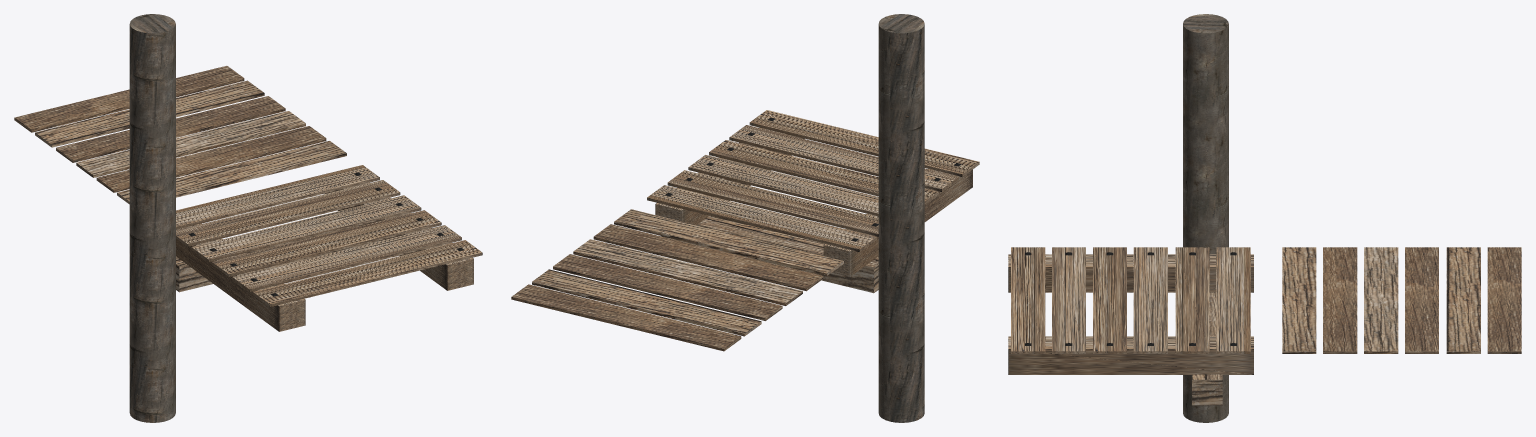
File: Plataforma madera TP 6.002.fbx
3 views of the same model, side by side, from view 1: azimuth 30°, elevation 25°; view 2: azimuth 150°, elevation 25°; view 3: azimuth 270°, elevation 25° (orthographic).
Visible parts, largest first — view 1: Plataforma madera 16x16, Plataforma madera 16x16.001, Columna madera 3x28, Viga madera 16x2; view 2: Plataforma madera 16x16.001, Plataforma madera 16x16, Columna madera 3x28, Viga madera 16x2; view 3: Plataforma madera 16x16, Plataforma madera 16x16.001, Columna madera 3x28, Viga madera 16x2.
Boxes of the visible parts, x1,y1,x2,y2 form: Plataforma madera 16x16: (176,165,482,331); Plataforma madera 16x16.001: (14,65,346,204); Columna madera 3x28: (129,14,175,422); Viga madera 16x2: (176,226,378,292); Plataforma madera 16x16.001: (511,209,843,351); Plataforma madera 16x16: (647,110,979,276); Columna madera 3x28: (878,14,924,422); Viga madera 16x2: (661,215,878,293); Plataforma madera 16x16: (1008,247,1253,374); Plataforma madera 16x16.001: (1282,247,1521,353); Columna madera 3x28: (1183,14,1228,422); Viga madera 16x2: (1192,292,1222,405).
Size of the model in its own units: 1897 by 2800 by 3345.
3 materials, 2 textured.
